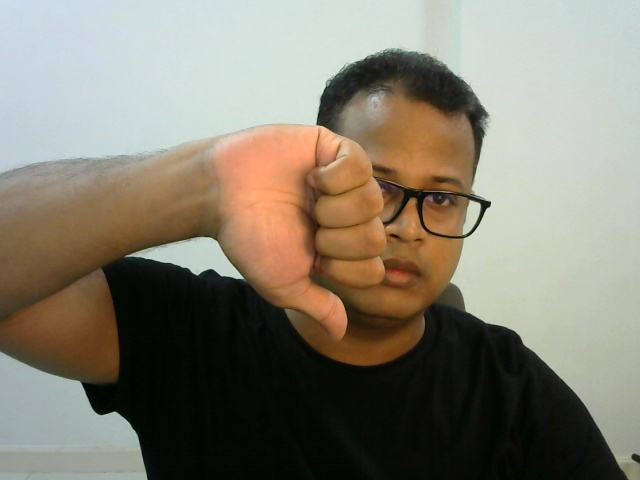ThumbsDown: (209, 122, 387, 345)
